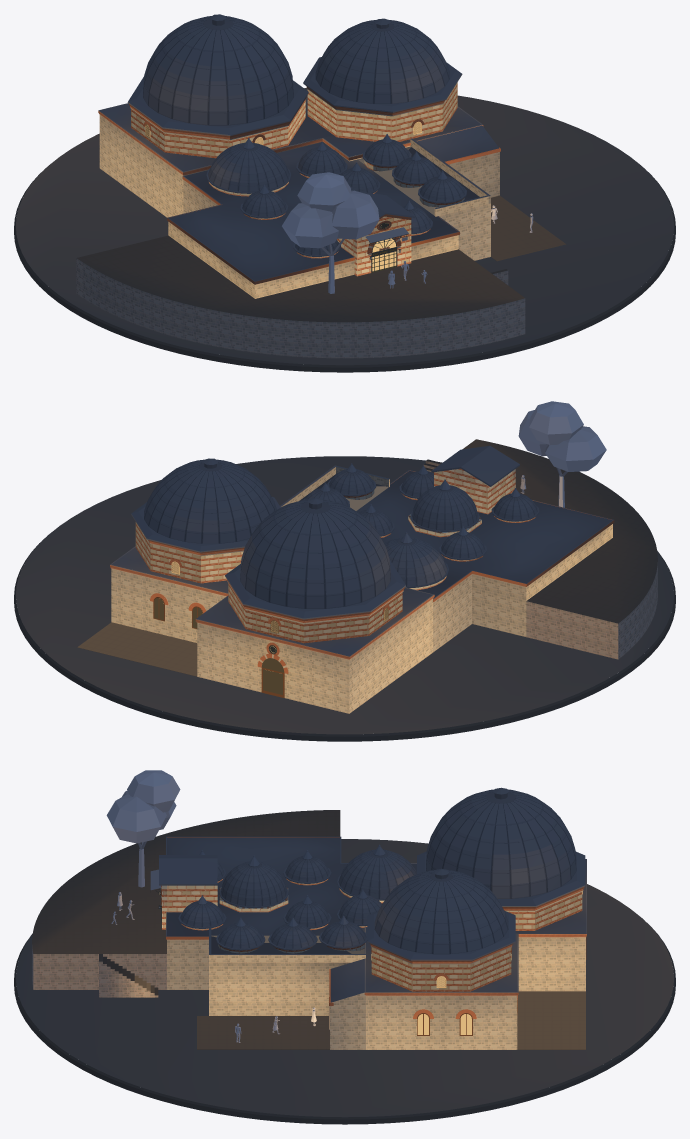
File: orhan-bey-hamami_v05_night_sunum.glb
The picture shows the model from 3 angles, top to bottom: view 1: azimuth 30°, elevation 25°; view 2: azimuth 150°, elevation 25°; view 3: azimuth 270°, elevation 25°; orthographic projection.
Visible parts, largest first — view 1: Zemin_Kaide, Zemin_Set, Kubbe_Sogukluk_Erkek, Hamam_Sicaklik, Kubbe_Sogukluk_Kadin, Kubbe_Halvetler, Hamam_Sogukluk_Erkek, Cevre_Agac_01, Hamam_Detay, Hamam_Giris, Kubbe_Iliklik, Hamam_Giris_Kadin (+2 smaller); view 2: Zemin_Kaide, Kubbe_Sogukluk_Erkek, Zemin_Set, Hamam_Sicaklik, Hamam_Sogukluk_Erkek, Kubbe_Sogukluk_Kadin, Kubbe_Halvetler, Hamam_Detay, Hamam_Sogukluk_Kadin, Cevre_Agac_01, Hamam_Giris, Cevre_Doseme (+2 smaller); view 3: Zemin_Kaide, Zemin_Set, Hamam_Sicaklik, Kubbe_Sogukluk_Erkek, Kubbe_Sogukluk_Kadin, Kubbe_Halvetler, Hamam_Sogukluk_Kadin, Cevre_Doseme, Hamam_Sogukluk_Erkek, Cevre_Agac_01, Hamam_Detay, Hamam_Giris (+3 smaller).
Boxes of the visible parts, bbox=[...] form: Zemin_Kaide: bbox=[14, 88, 675, 372]; Zemin_Set: bbox=[76, 235, 525, 358]; Kubbe_Sogukluk_Erkek: bbox=[127, 16, 308, 158]; Hamam_Sicaklik: bbox=[168, 142, 490, 298]; Kubbe_Sogukluk_Kadin: bbox=[303, 20, 462, 141]; Kubbe_Halvetler: bbox=[240, 138, 490, 258]; Hamam_Sogukluk_Erkek: bbox=[99, 103, 333, 217]; Cevre_Agac_01: bbox=[282, 172, 379, 293]; Hamam_Detay: bbox=[98, 14, 483, 284]; Hamam_Giris: bbox=[337, 191, 415, 276]; Kubbe_Iliklik: bbox=[206, 142, 291, 196]; Hamam_Giris_Kadin: bbox=[417, 125, 500, 197]; Zemin_Kaide: bbox=[14, 456, 675, 741]; Kubbe_Sogukluk_Erkek: bbox=[225, 499, 405, 643]; Zemin_Set: bbox=[423, 439, 657, 659]; Hamam_Sicaklik: bbox=[356, 470, 612, 652]; Hamam_Sogukluk_Erkek: bbox=[197, 588, 432, 713]; Kubbe_Sogukluk_Kadin: bbox=[131, 459, 280, 583]; Kubbe_Halvetler: bbox=[280, 465, 539, 561]; Hamam_Detay: bbox=[110, 458, 614, 698]; Hamam_Sogukluk_Kadin: bbox=[111, 547, 228, 642]; Cevre_Agac_01: bbox=[518, 401, 606, 507]; Hamam_Giris: bbox=[431, 445, 519, 514]; Cevre_Doseme: bbox=[77, 622, 197, 676]; Zemin_Kaide: bbox=[14, 839, 675, 1124]; Zemin_Set: bbox=[32, 810, 340, 997]; Hamam_Sicaklik: bbox=[167, 837, 416, 1015]; Kubbe_Sogukluk_Erkek: bbox=[417, 789, 585, 930]; Kubbe_Sogukluk_Kadin: bbox=[367, 870, 515, 991]; Kubbe_Halvetler: bbox=[178, 856, 381, 962]; Hamam_Sogukluk_Kadin: bbox=[366, 927, 517, 1049]; Cevre_Doseme: bbox=[197, 991, 585, 1049]; Hamam_Sogukluk_Erkek: bbox=[515, 859, 585, 991]; Cevre_Agac_01: bbox=[106, 770, 180, 887]; Hamam_Detay: bbox=[166, 787, 586, 1035]; Hamam_Giris: bbox=[150, 855, 217, 929].
Bounding box in the file's own units: 54.96 × 15.8 × 54.96.
Materials: 20 (7 with a texture image).
